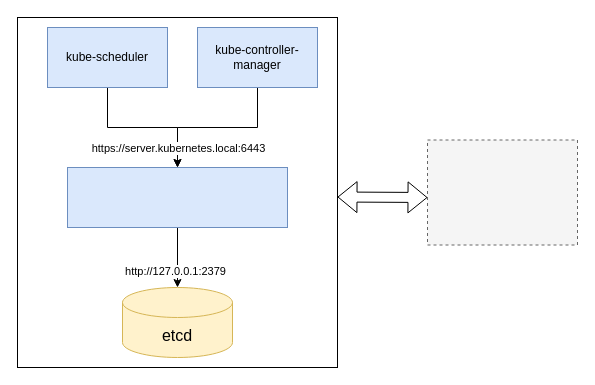
This 595x385 diagram has some shape labels left out. The shapes that lost their labels are listed below. From the top down, each one's centre as x and y in pixels, then its label:
[177,197]: kube-apiserver
[502,192]: Kubernetes components on worker nodes
